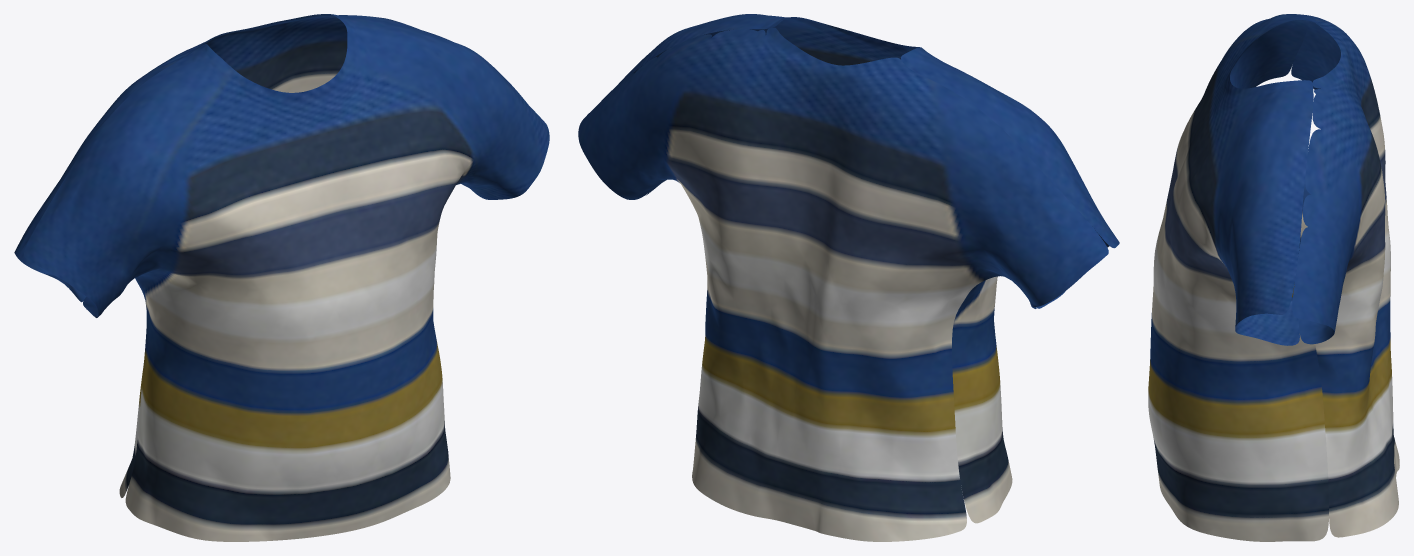
File: TM_SMM.dae
3 renders of one model, left to right at view 1: azimuth 30°, elevation 25°; view 2: azimuth 150°, elevation 25°; view 3: azimuth 270°, elevation 25°, orthographic. The views are drawn at different scales.
Visible parts, largest first — view 1: tshirt; view 2: tshirt; view 3: tshirt.
Boxes of the visible parts, x1=… form: tshirt: x1=14, y1=14, x2=549, y2=541; tshirt: x1=578, y1=14, x2=1119, y2=541; tshirt: x1=1148, y1=14, x2=1399, y2=541.
Size of the model in its own units: 6.71 by 5.53 by 2.91.
